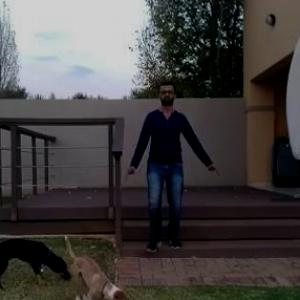land: (127, 89, 209, 242)
